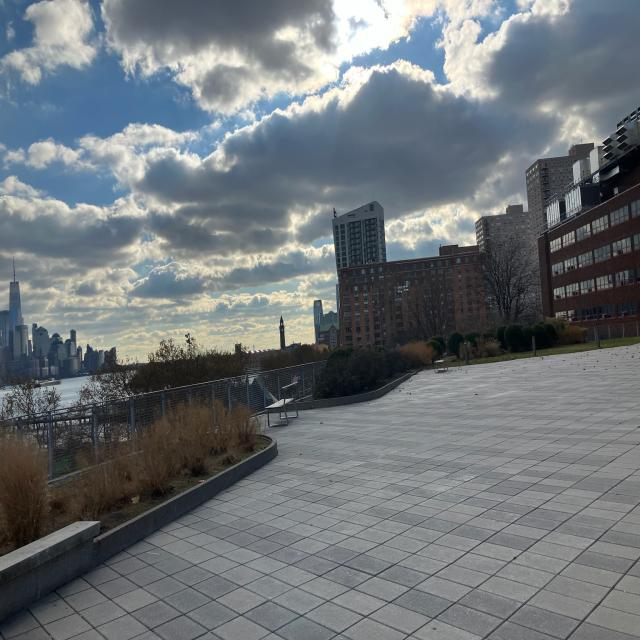WTC: (9, 258, 22, 330)
